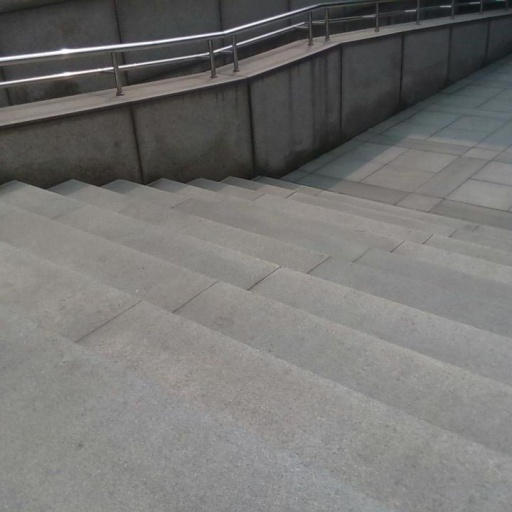Stairs: (0, 56, 512, 512)
